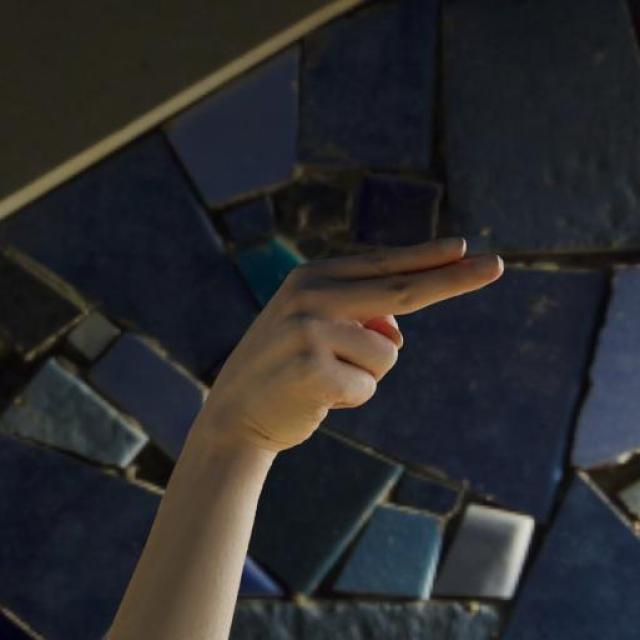H: (179, 230, 506, 450)
